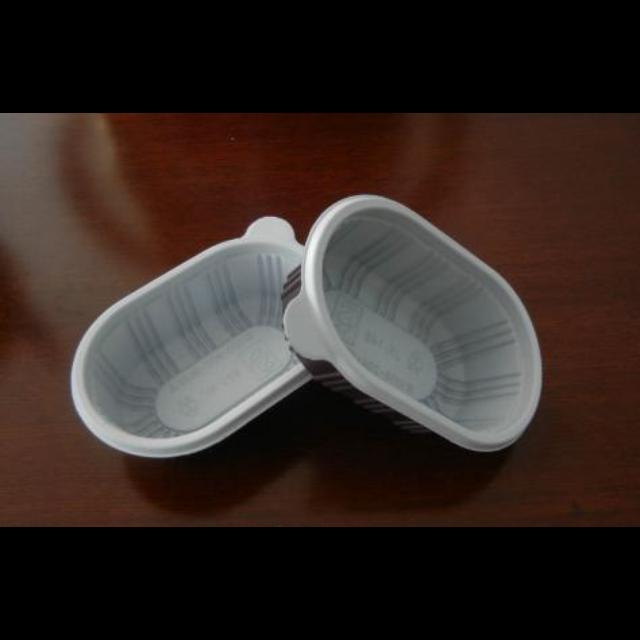plastic_box: (70, 192, 540, 456)
